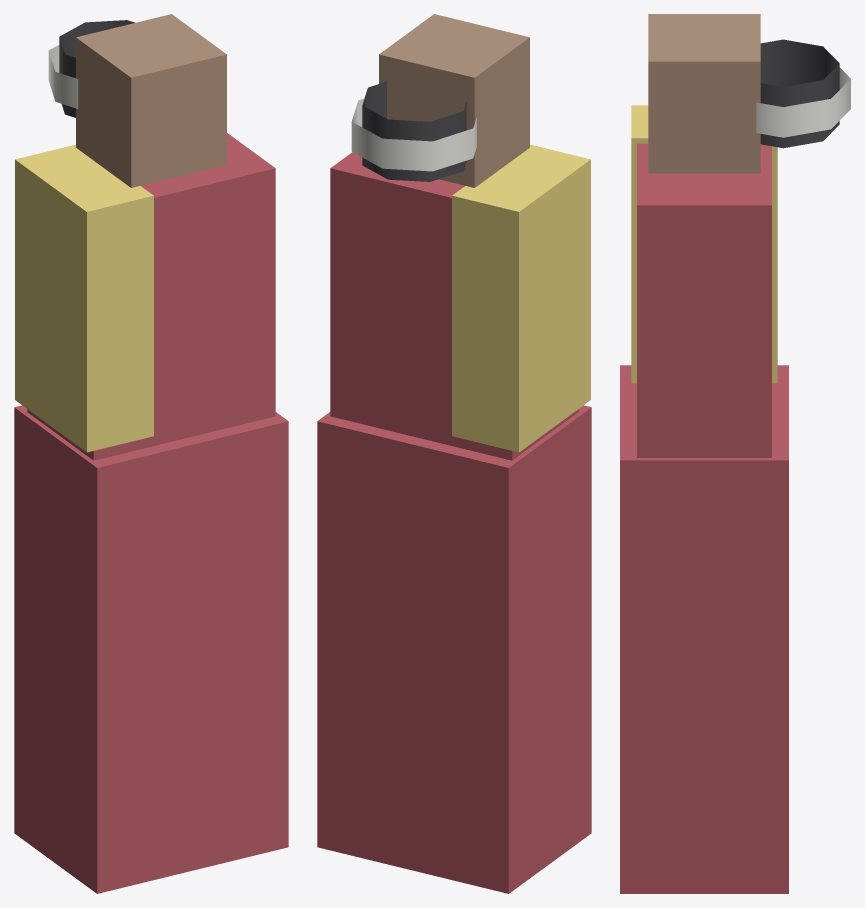
The model's file is meenakshi.glb.
The picture shows the model from 3 angles, left to right: view 1: azimuth 30°, elevation 25°; view 2: azimuth 150°, elevation 25°; view 3: azimuth 270°, elevation 25°; orthographic projection.
Visible parts, largest first — view 1: LowerPleats_Node, PalluFold_Node, TorsoSaree_Node, Head_Node, HairBun_Node, JasmineGarland_Node; view 2: LowerPleats_Node, PalluFold_Node, TorsoSaree_Node, Head_Node, JasmineGarland_Node, HairBun_Node; view 3: LowerPleats_Node, TorsoSaree_Node, Head_Node, HairBun_Node, PalluFold_Node, JasmineGarland_Node.
Part boxes in pixels (x1,y1,x2,y2): LowerPleats_Node: (14,405,288,893); PalluFold_Node: (15,144,153,452); TorsoSaree_Node: (27,133,275,460); Head_Node: (76,14,226,187); HairBun_Node: (59,20,135,117); JasmineGarland_Node: (48,45,78,108); LowerPleats_Node: (317,405,591,893); PalluFold_Node: (452,144,590,452); TorsoSaree_Node: (330,152,578,460); Head_Node: (379,14,529,187); JasmineGarland_Node: (351,98,476,171); HairBun_Node: (362,81,466,181); LowerPleats_Node: (620,365,788,893); TorsoSaree_Node: (637,143,771,457); Head_Node: (648,14,760,173); HairBun_Node: (760,39,839,148); PalluFold_Node: (631,105,777,383); JasmineGarland_Node: (756,67,850,137).
Size of the model in its own units: 0.41 by 1.59 by 0.41.
